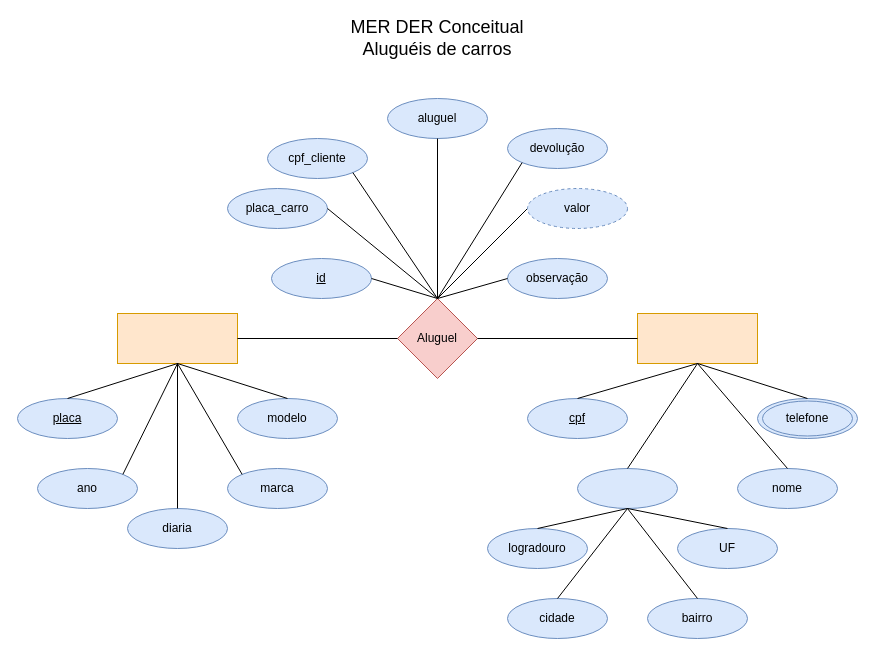
Image size: 875x656. Some labels were removed from this diagram. Here are the shapes that lost their labels. From the top down, the centre of each, then its label:
At (177,338): "Carro".
At (697,338): "Cliente".
At (627,488): "endereço".
